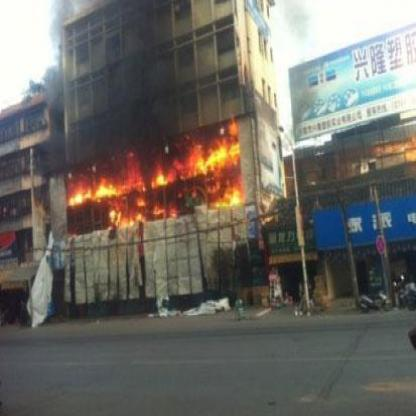fire: (65, 137, 243, 215)
smoke: (92, 0, 185, 130)
